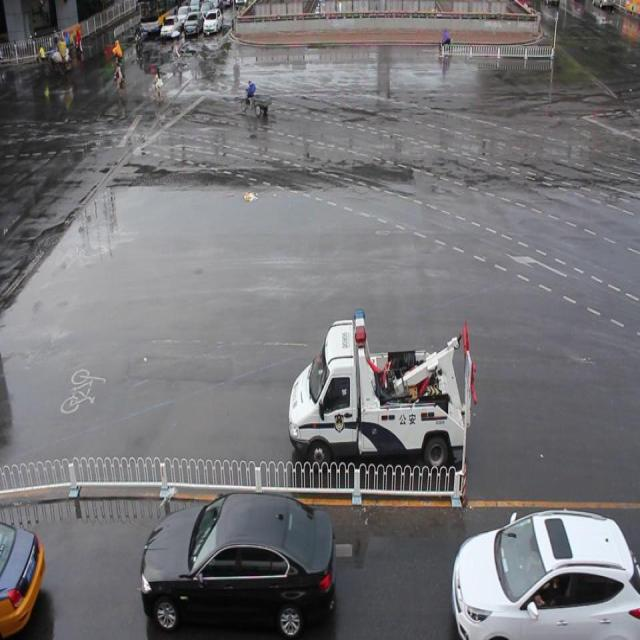bus: (287, 306, 476, 473)
car: (141, 489, 335, 640), (451, 508, 640, 640), (1, 518, 46, 640)
